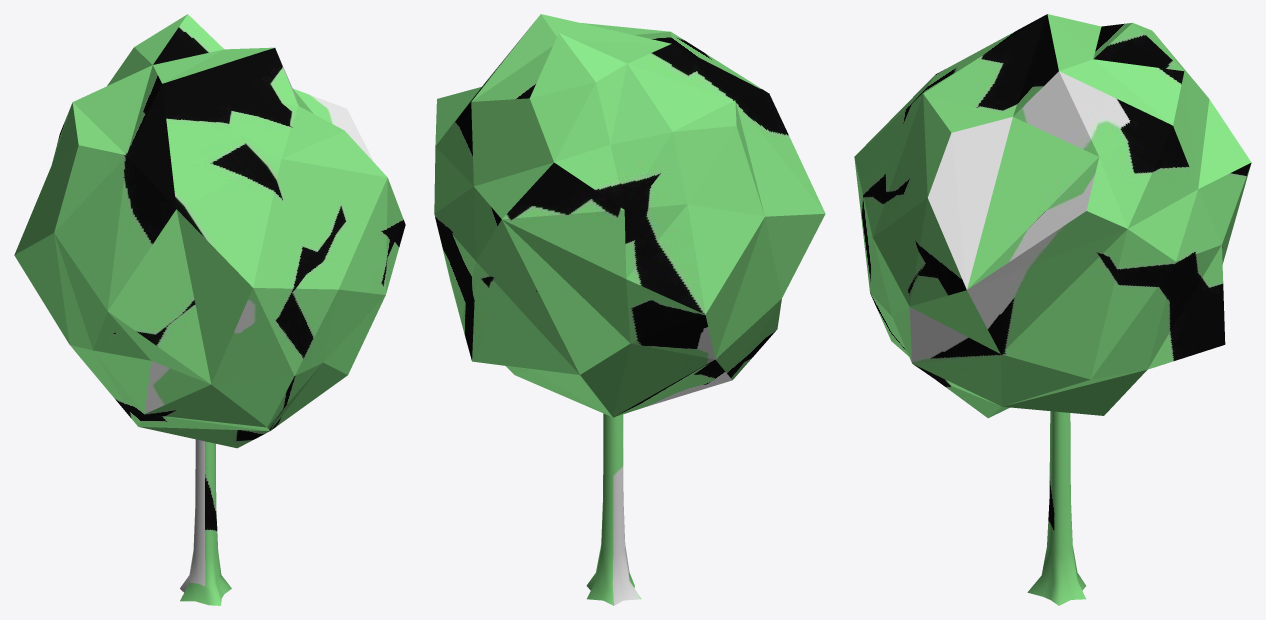
The model's file is tree3.obj.
3 renders of one model, left to right at view 1: azimuth 30°, elevation 25°; view 2: azimuth 150°, elevation 25°; view 3: azimuth 270°, elevation 25°, orthographic. The views are drawn at different scales.
Visible parts, largest first — view 1: Icosphere.000_Icosphere.010; view 2: Icosphere.000_Icosphere.010; view 3: Icosphere.000_Icosphere.010.
Boxes of the visible parts, x1,y1,x2,y2 form: Icosphere.000_Icosphere.010: (14,14,405,605); Icosphere.000_Icosphere.010: (434,14,825,605); Icosphere.000_Icosphere.010: (854,14,1251,605).
Size of the model in its own units: 2.01 by 3.46 by 2.16.
